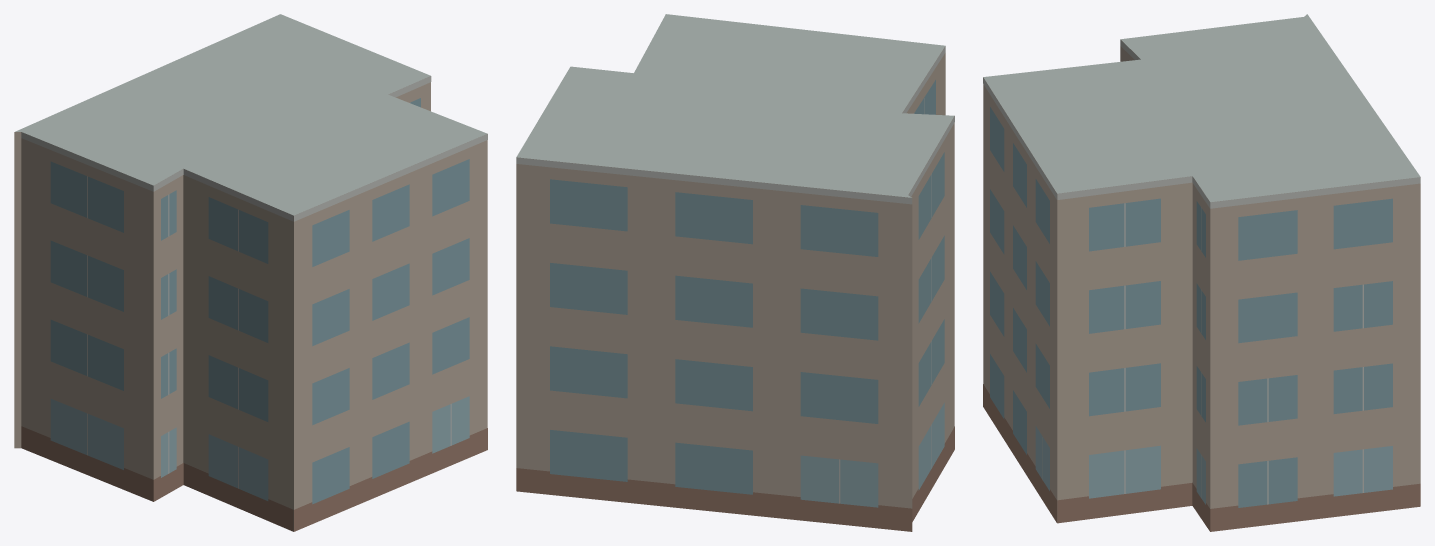
The model's file is survey-upis-32864007.glb.
The picture shows the model from 3 angles, left to right: view 1: azimuth 30°, elevation 25°; view 2: azimuth 150°, elevation 25°; view 3: azimuth 270°, elevation 25°; orthographic projection. The views are drawn at different scales.
Parts seen in each view (by area): view 1: survey-upis-32864007.tmp; view 2: survey-upis-32864007.tmp; view 3: survey-upis-32864007.tmp.
Boxes of the visible parts, left/top/right/bottom form: survey-upis-32864007.tmp: left=14, top=14, right=487, bottom=531; survey-upis-32864007.tmp: left=516, top=14, right=954, bottom=531; survey-upis-32864007.tmp: left=983, top=14, right=1420, bottom=531.
Bounding box in the file's own units: 15.26 × 12.45 × 14.99.
